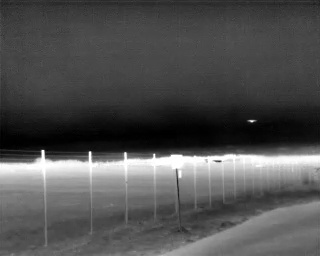AIRPLANE: (246, 116, 258, 125)
